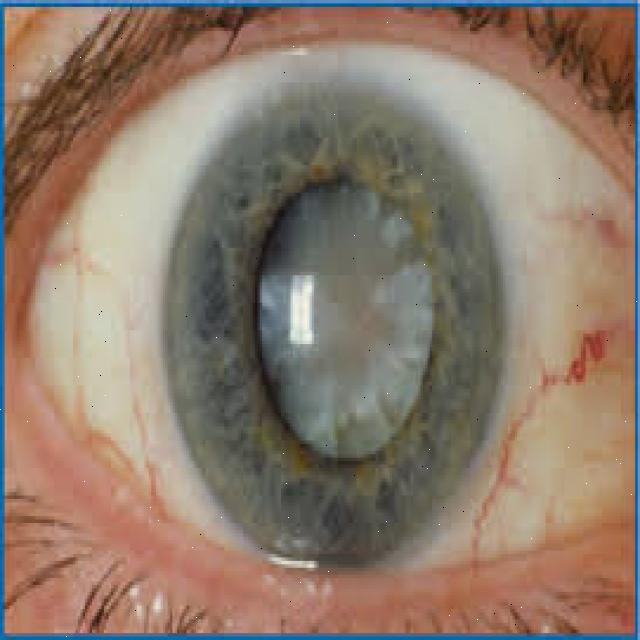Cataract: (163, 71, 505, 583)
